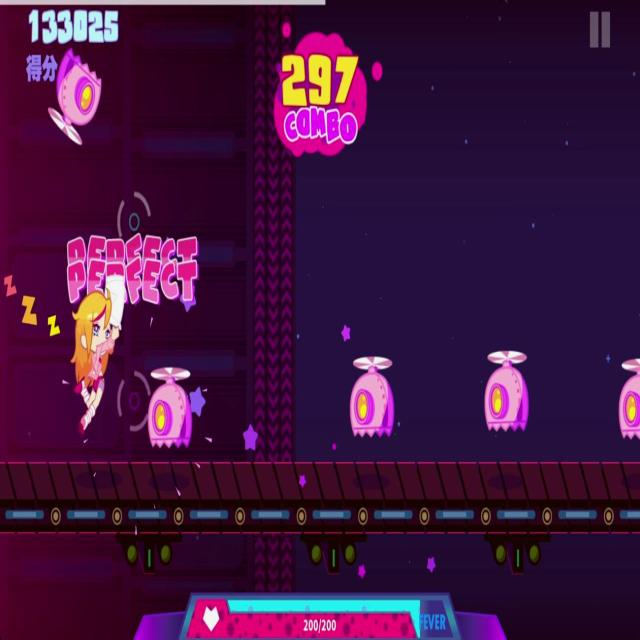jiqiqiu: (48, 46, 102, 144), (146, 353, 196, 452), (482, 341, 532, 436), (348, 350, 398, 440), (617, 352, 640, 444)
